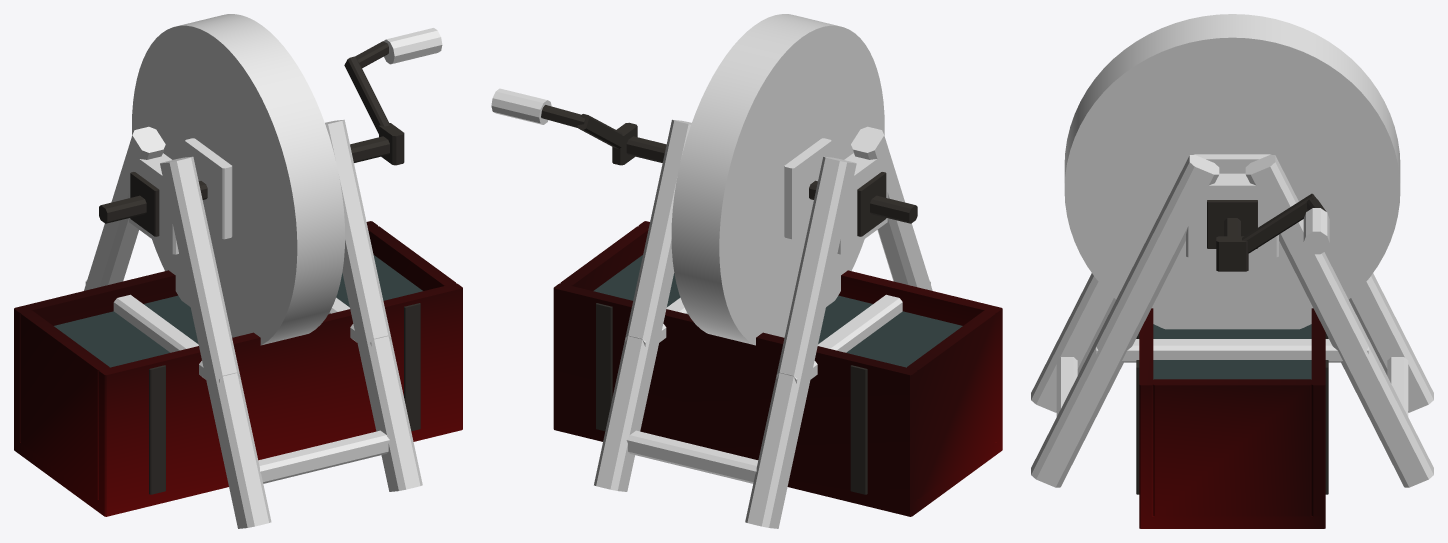
The model's file is SilverbrookPropGrindstone.fbx.
The picture shows the model from 3 angles, left to right: view 1: azimuth 30°, elevation 25°; view 2: azimuth 150°, elevation 25°; view 3: azimuth 270°, elevation 25°; orthographic projection.
Parts seen in each view (by area): view 1: SM_SBGrindstone_Trough, SM_SBGrindstone_Wheel, SM_SBGrindstone_Frame, SM_SBGrindstone_Iron, SM_SBGrindstone_Water; view 2: SM_SBGrindstone_Trough, SM_SBGrindstone_Wheel, SM_SBGrindstone_Frame, SM_SBGrindstone_Iron, SM_SBGrindstone_Water; view 3: SM_SBGrindstone_Wheel, SM_SBGrindstone_Frame, SM_SBGrindstone_Trough, SM_SBGrindstone_Iron, SM_SBGrindstone_Water.
Boxes of the visible parts, bbox=[...] form: SM_SBGrindstone_Trough: bbox=[14, 221, 462, 516]; SM_SBGrindstone_Wheel: bbox=[132, 14, 344, 345]; SM_SBGrindstone_Frame: bbox=[84, 28, 442, 528]; SM_SBGrindstone_Iron: bbox=[99, 41, 420, 494]; SM_SBGrindstone_Water: bbox=[54, 255, 422, 367]; SM_SBGrindstone_Trough: bbox=[553, 221, 1002, 516]; SM_SBGrindstone_Wheel: bbox=[671, 14, 884, 345]; SM_SBGrindstone_Frame: bbox=[491, 88, 932, 528]; SM_SBGrindstone_Iron: bbox=[541, 105, 917, 494]; SM_SBGrindstone_Water: bbox=[593, 255, 962, 367]; SM_SBGrindstone_Wheel: bbox=[1064, 14, 1400, 329]; SM_SBGrindstone_Frame: bbox=[1031, 154, 1433, 487]; SM_SBGrindstone_Trough: bbox=[1139, 308, 1325, 528]; SM_SBGrindstone_Iron: bbox=[1136, 193, 1328, 494]; SM_SBGrindstone_Water: bbox=[1153, 324, 1311, 379].
Bounding box in the file's own units: 126 × 119 × 104.
